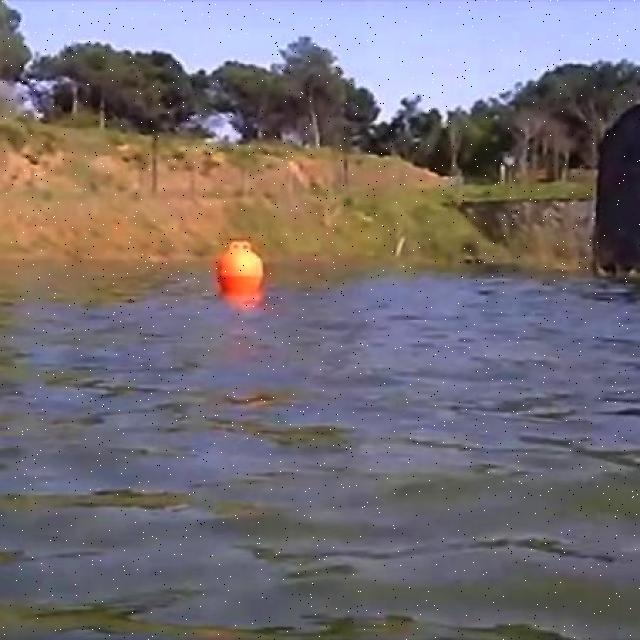buoy: (221, 238, 263, 291)
